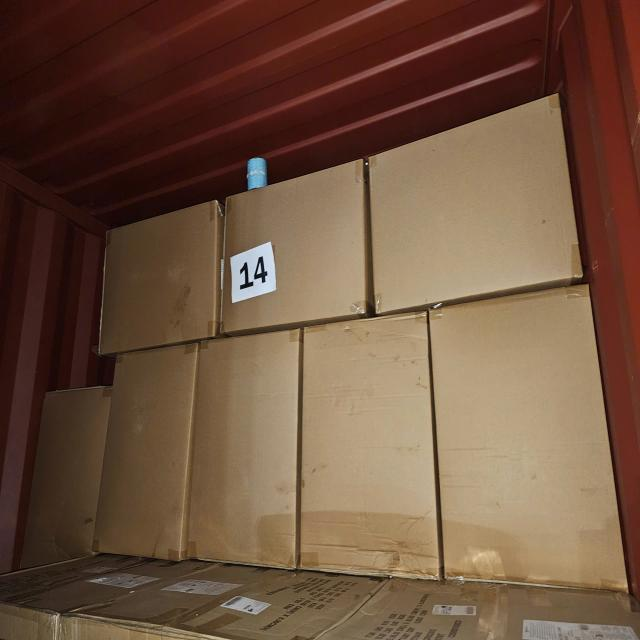Carton: (428, 286, 604, 580), (366, 95, 571, 307), (300, 311, 429, 589), (195, 325, 304, 569), (224, 162, 371, 338), (105, 341, 195, 559), (104, 200, 223, 356), (20, 381, 104, 567)
